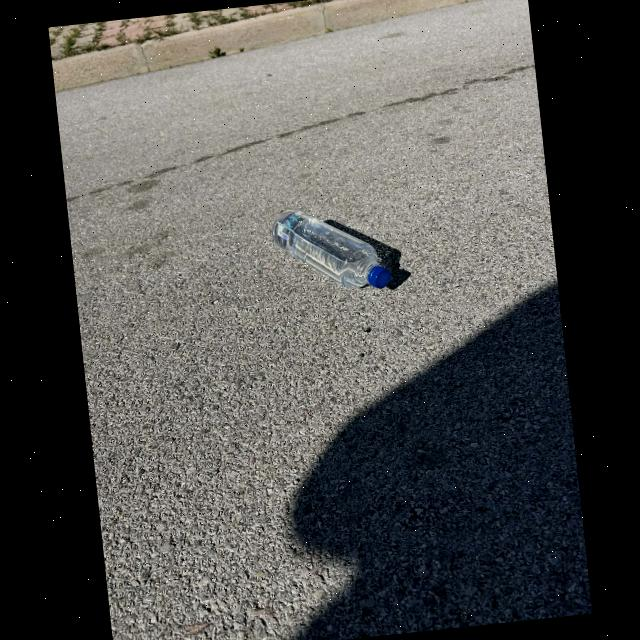trash: (262, 195, 398, 310)
